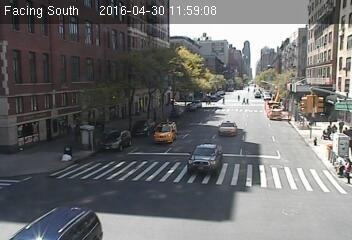neg: (232, 37, 249, 60), (147, 161, 163, 183), (99, 118, 115, 139), (73, 205, 88, 225), (158, 114, 171, 131), (58, 147, 71, 164), (243, 187, 255, 203), (312, 36, 323, 51), (127, 36, 136, 49), (288, 140, 296, 151), (250, 124, 258, 134), (119, 154, 127, 164), (62, 50, 69, 61), (235, 92, 242, 102), (185, 40, 192, 49), (45, 105, 52, 113), (195, 127, 201, 135), (278, 120, 283, 127), (208, 156, 213, 163)
pos: (336, 154, 351, 183), (319, 123, 335, 144), (338, 119, 348, 132), (330, 122, 339, 134), (219, 93, 227, 105), (327, 117, 335, 127), (242, 95, 249, 105), (245, 96, 252, 105), (203, 97, 210, 106), (246, 85, 251, 92), (207, 98, 212, 105)
